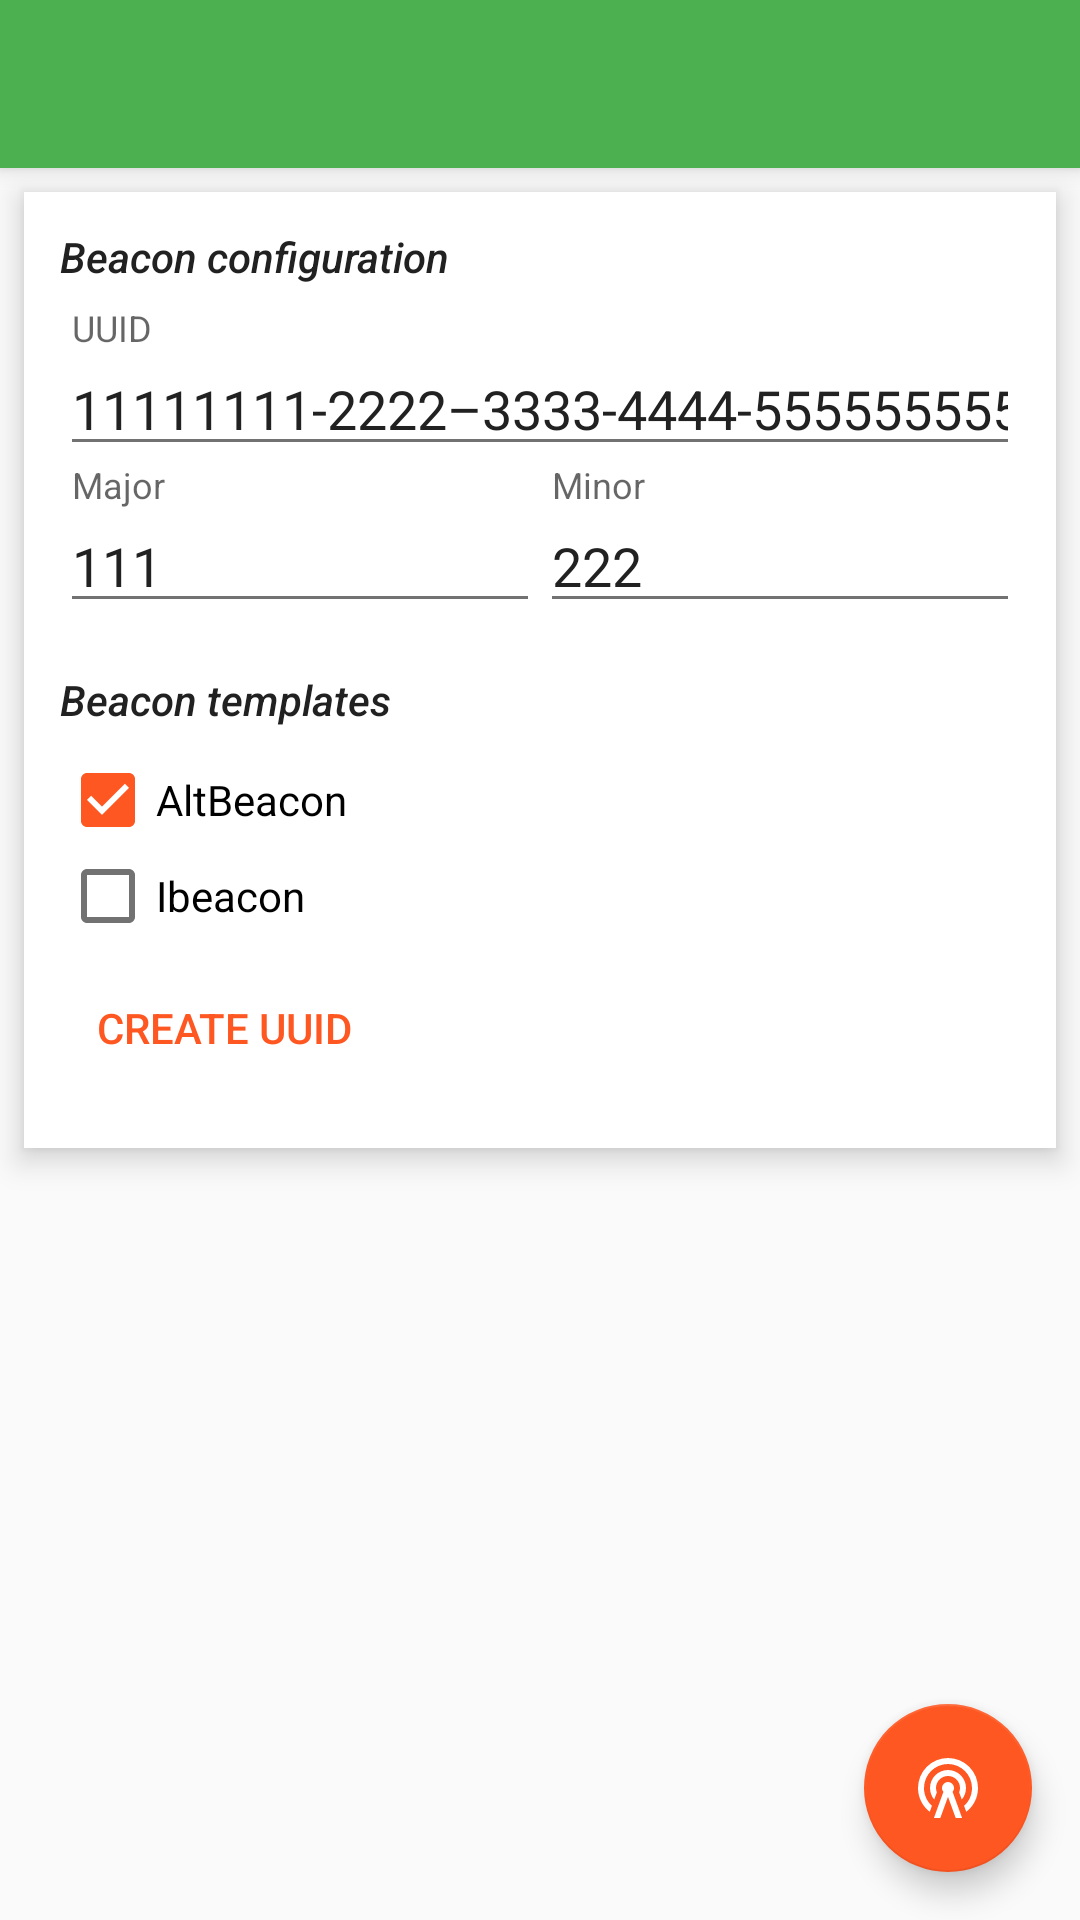

Icons on this 1080w x 1920h Android screen, each with the point to tap as point (x, y):
radar: point (948, 1788)
